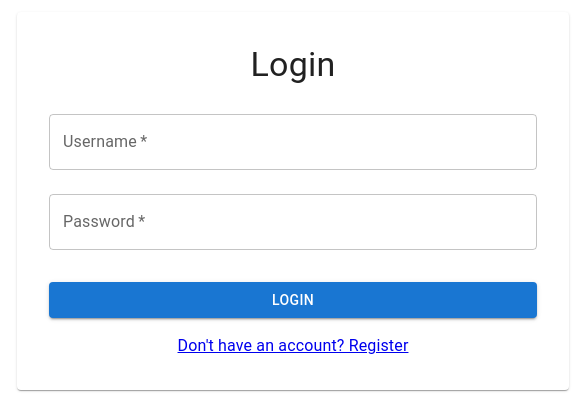
Test case: LoginPage › disables login button while submitting
In the field labelled "Username *": [293, 142] box 49,114 -> 537,170, type "testuser"
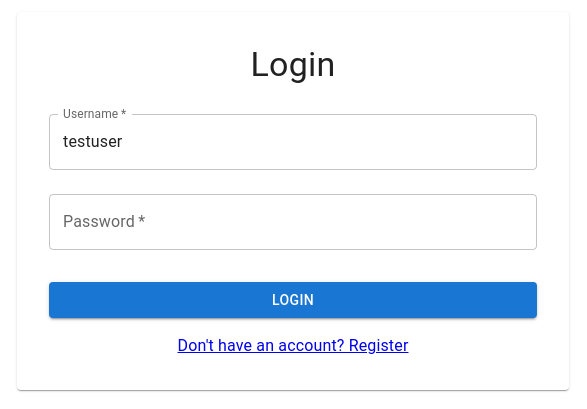
In the password field labelled "Password *": [293, 222] box 49,194 -> 537,250, type "password123"
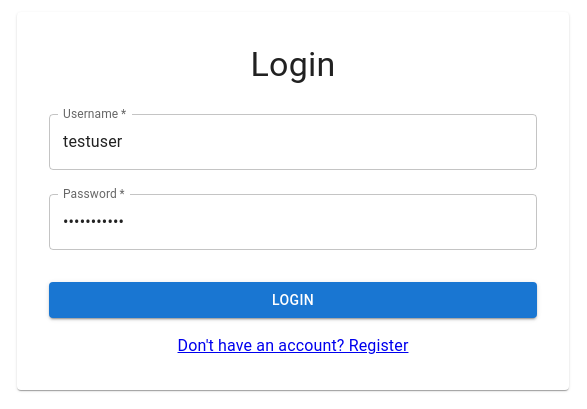
Click the button "Login": [293, 300] box 49,282 -> 537,318
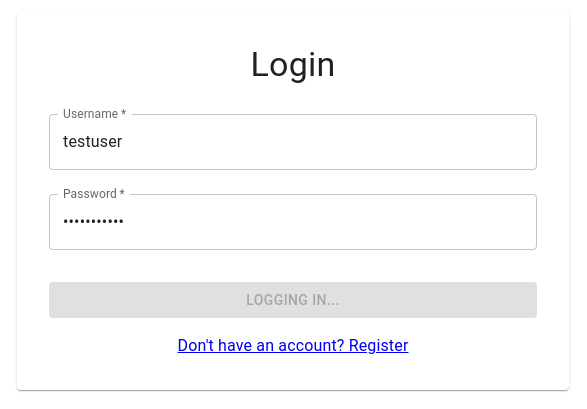
Result: the button "Logging in..." is disabled at 49,282 -> 537,318
